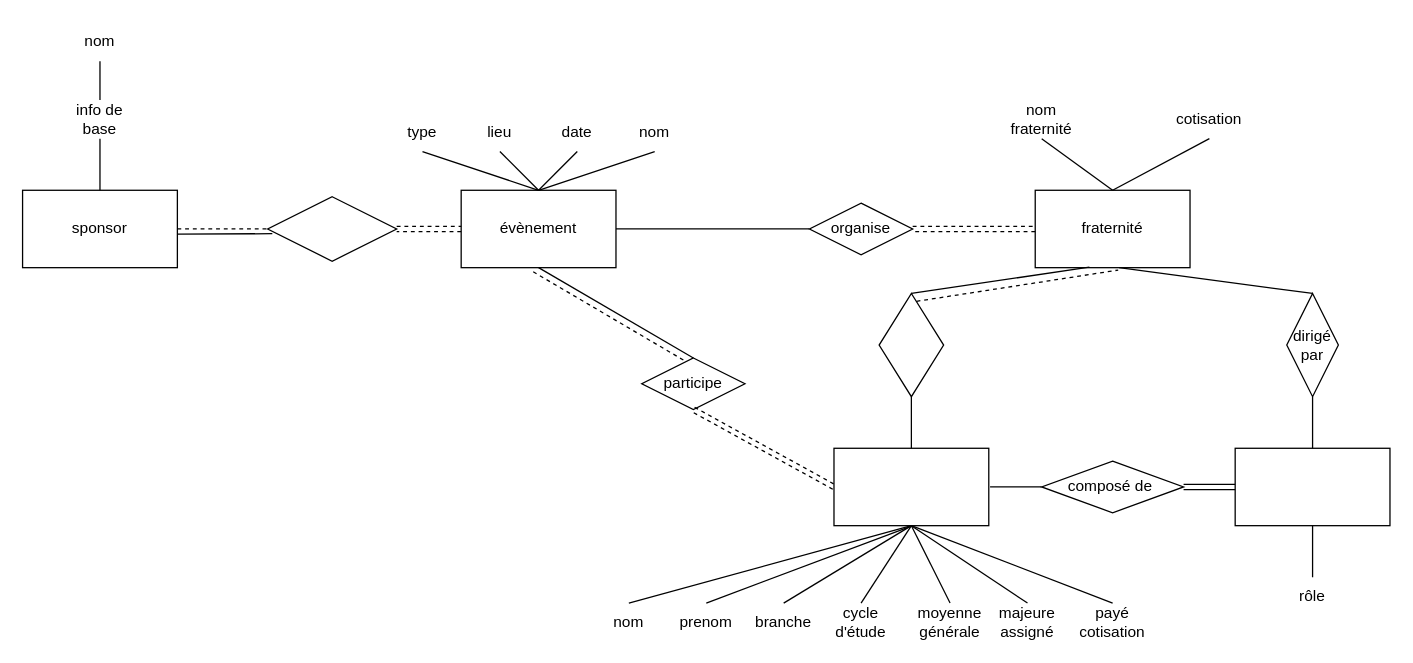
Image size: 1413x663. Some labels were removed from this diagram. The shapes that lost their labels are listed below. From the top down, each one's centre as x and y in pixels, then its label:
At [331,228]: "sponsorisé par".
At [911,344]: "contient".
At [911,486]: "frère".
At [1312,486]: "conseil exécutif".
